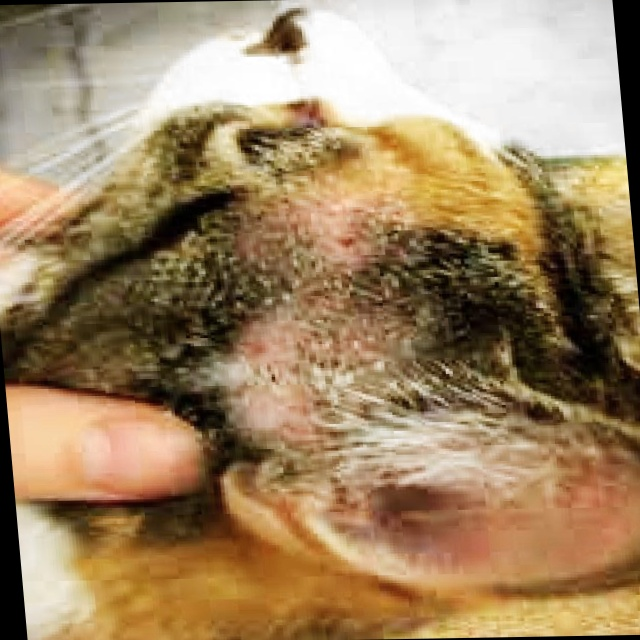ringworm: (290, 163, 393, 291), (241, 333, 299, 406)
